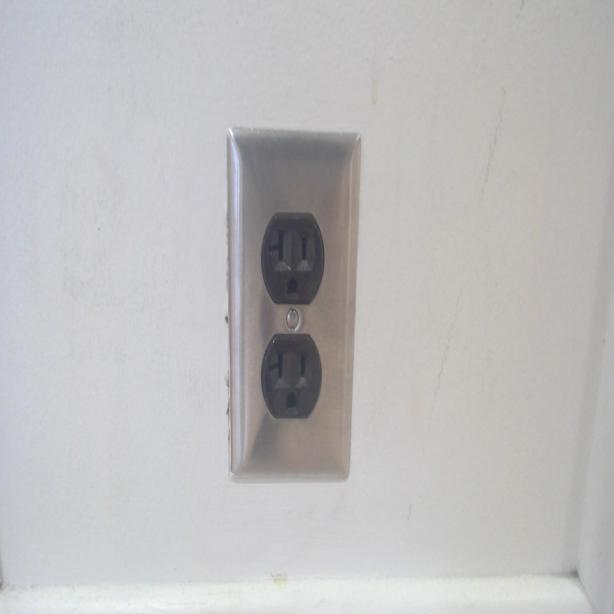typeb: (262, 200, 322, 305), (266, 339, 319, 419)
